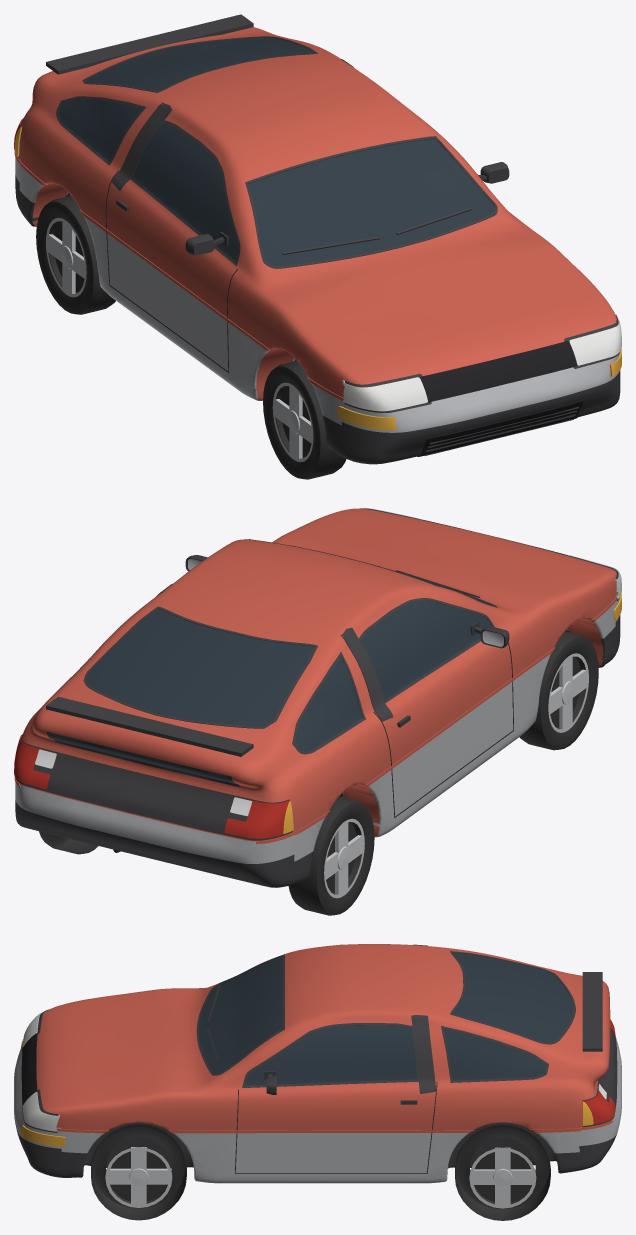
Rendered from crx.glb.
3 renders of one model, top to bottom at view 1: azimuth 30°, elevation 25°; view 2: azimuth 150°, elevation 25°; view 3: azimuth 270°, elevation 25°, orthographic. The views are drawn at different scales.
Visible parts, largest first — view 1: paint, glass, trim, wheel_fr, wheel_rr, headlights, mirrors, front_blinker_right; view 2: paint, glass, trim, wheel_rr, wheel_fr, taillights, mirrors, wheel_rl, reverse_lights; view 3: paint, glass, trim, wheel_fl, wheel_rl, headlights, taillights, front_blinker_left.
Boxes of the visible parts, x1,y1,x2,y2 form: paint: [15, 27, 620, 464]; glass: [58, 37, 494, 266]; trim: [14, 14, 619, 456]; wheel_fr: [263, 360, 346, 479]; wheel_rr: [36, 195, 115, 314]; headlights: [342, 314, 621, 411]; mirrors: [185, 162, 509, 255]; front_blinker_right: [337, 406, 395, 430]; paint: [15, 508, 620, 887]; glass: [50, 570, 492, 783]; trim: [14, 508, 618, 852]; wheel_rr: [288, 796, 374, 915]; wheel_fr: [519, 631, 598, 750]; taillights: [14, 735, 290, 838]; mirrors: [185, 555, 509, 648]; wheel_rl: [39, 831, 98, 854]; reverse_lights: [35, 749, 252, 816]; paint: [14, 944, 621, 1183]; glass: [199, 952, 573, 1086]; trim: [17, 944, 617, 1173]; wheel_fl: [91, 1124, 186, 1220]; wheel_rl: [455, 1125, 550, 1220]; headlights: [22, 1011, 59, 1131]; taillights: [583, 1019, 614, 1124]; front_blinker_left: [20, 1125, 65, 1146].
Bounding box in the file's own units: 1.8 × 1.29 × 3.67.
